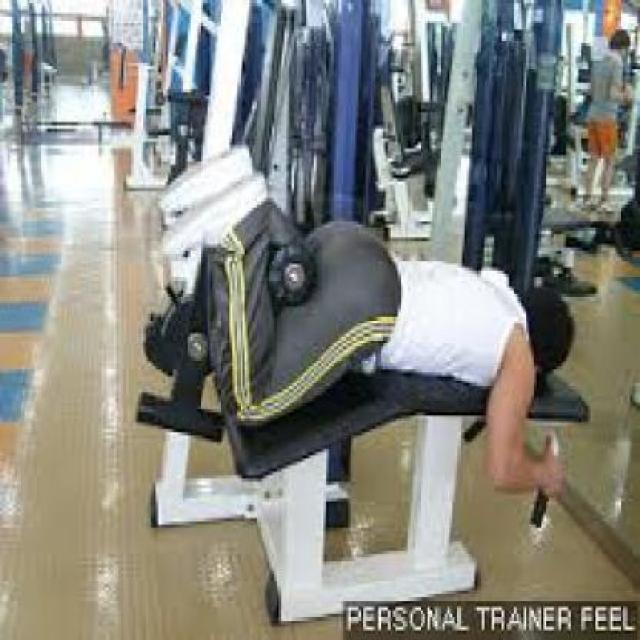reg curl machine: (117, 148, 592, 614)
